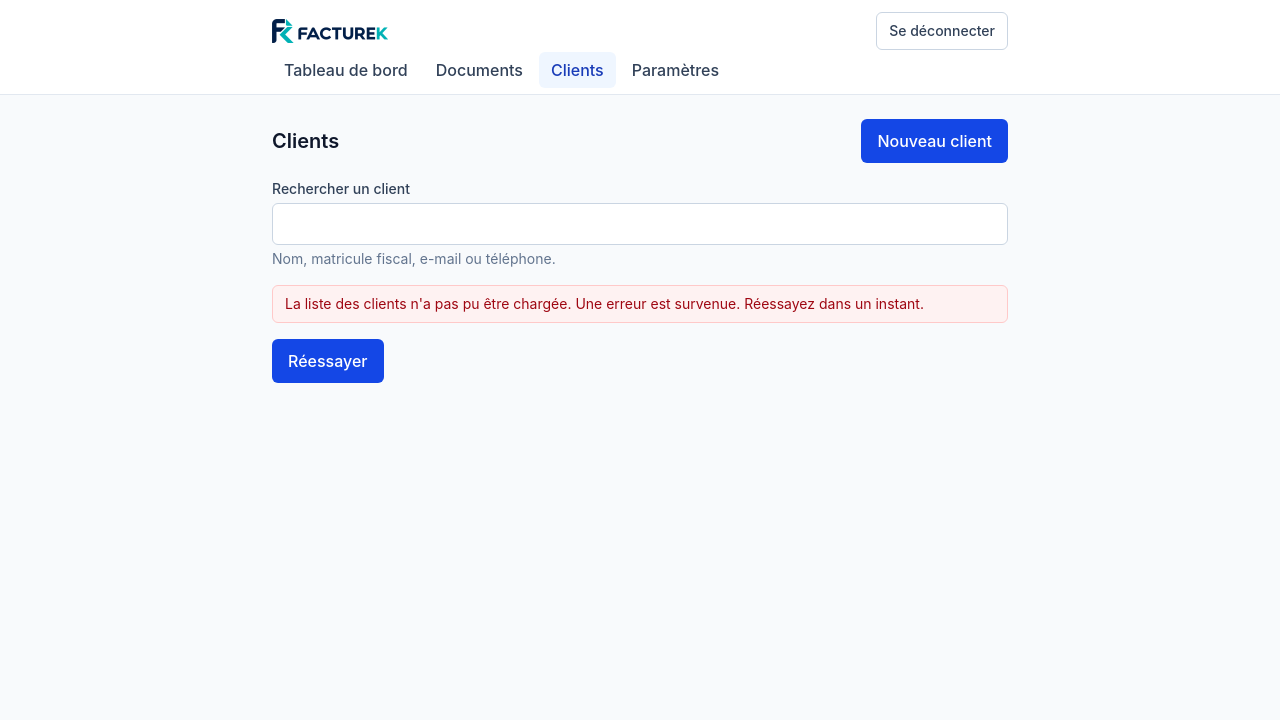
Test: clients list › shows a French error and a retry when the list cannot be loaded, never the raw message
Expected: the message shows "La liste des clients n'a pas pu être chargée.", [285,295,571,312]
What coordinates should you click on to do the following:
click the button "Réessayer"
I would click on:
 (328, 361)
Its box is [272,339,384,383].
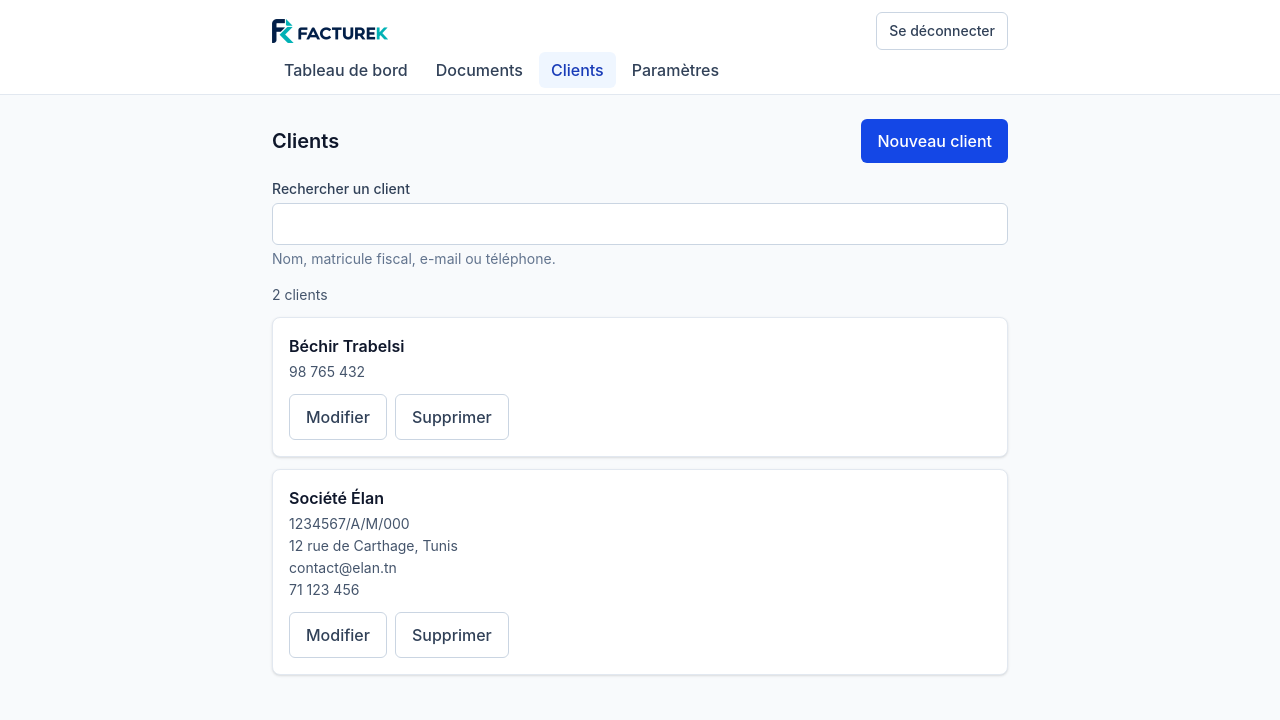
Expected: the heading "Société Élan" is shown, [289,488,384,508]
